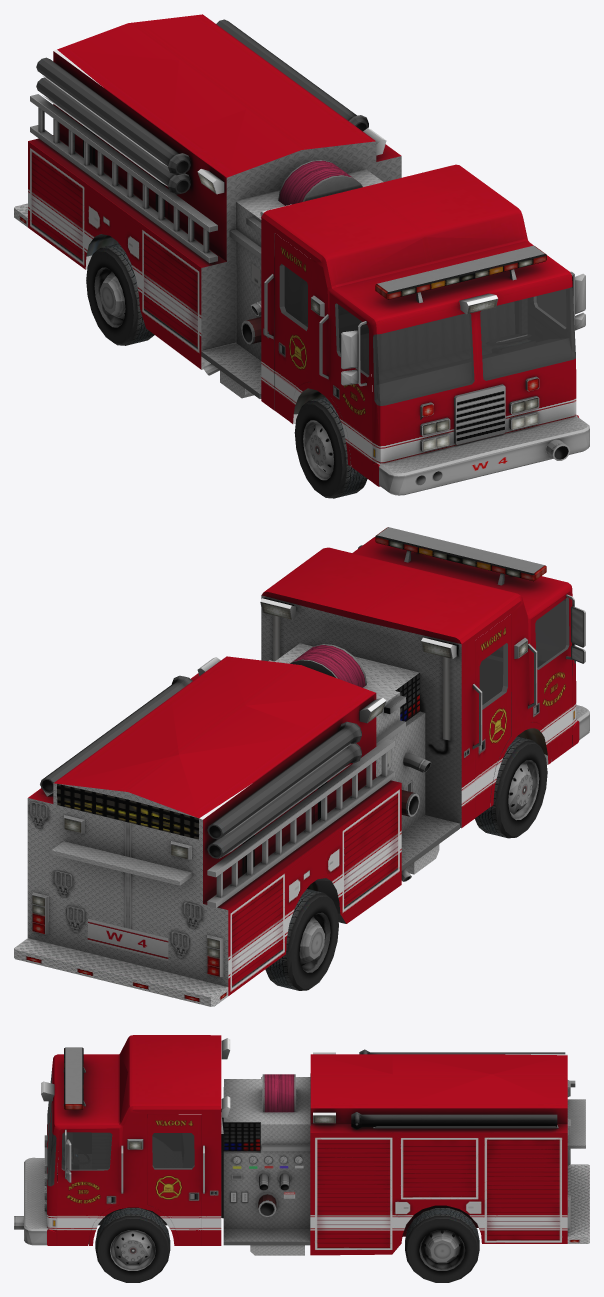
File: firetruck2.dae
3 renders of one model, top to bottom at view 1: azimuth 30°, elevation 25°; view 2: azimuth 150°, elevation 25°; view 3: azimuth 270°, elevation 25°, orthographic. The views are drawn at different scales.
Parts seen in each view (by area): view 1: SketchUp (×21); view 2: SketchUp (×24); view 3: SketchUp (×22).
Boxes of the visible parts, x1,y1,x2,y2 form: SketchUp (×21): (28, 14, 589, 498); SketchUp (×24): (14, 527, 579, 1006); SketchUp (×22): (24, 1035, 589, 1282).
Size of the model in its own units: 193 by 533 by 181.
Materials: 4 (2 with a texture image).
